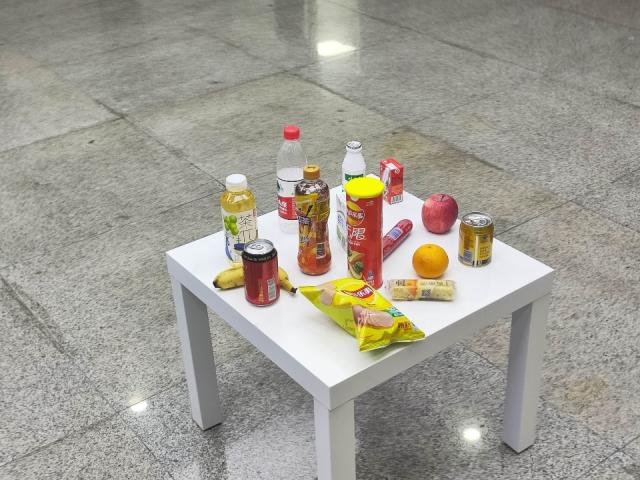Canned_drinks: (243, 236, 284, 310), (459, 212, 493, 268)
bottle: (297, 167, 332, 277), (278, 126, 306, 220)
cylinder: (346, 178, 384, 288)
drink_box: (380, 157, 405, 205)
